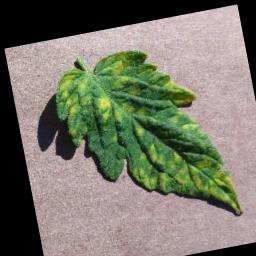Leaf_Mold: (48, 37, 242, 245)
